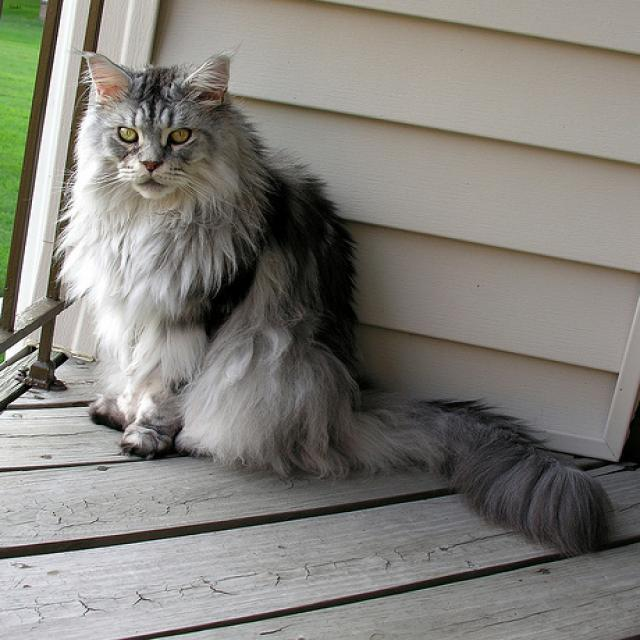Maine_Coon: (77, 44, 248, 210)
